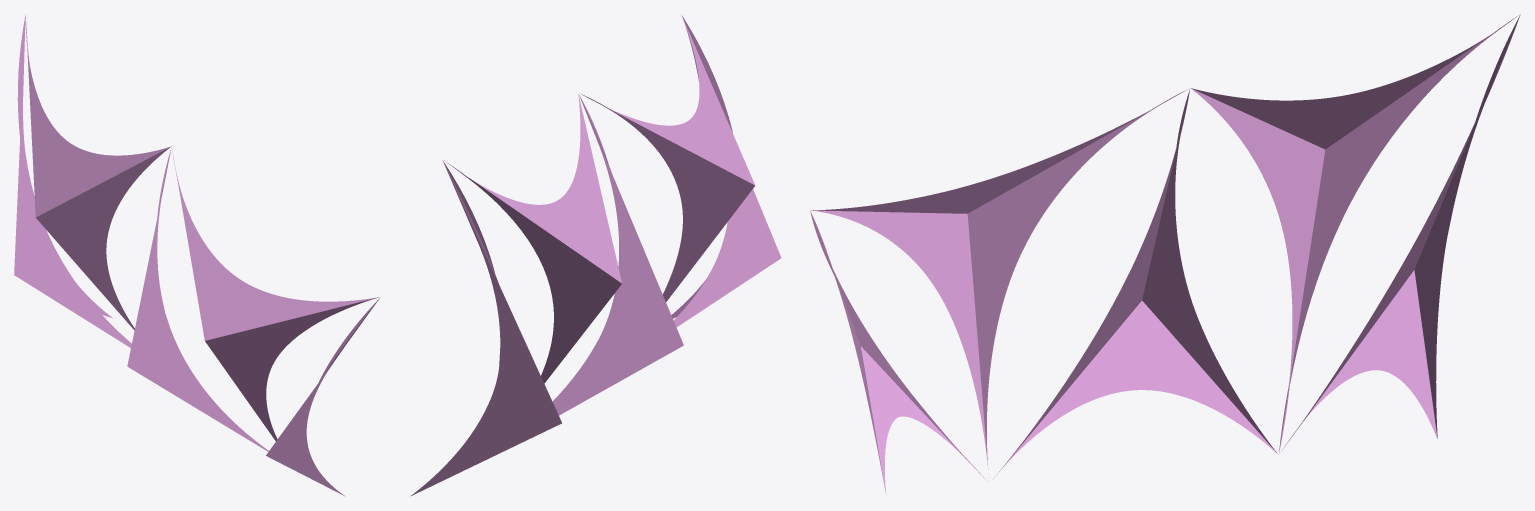
File: TYPE33-5.glb
3 views of the same model, side by side, from view 1: azimuth 30°, elevation 25°; view 2: azimuth 150°, elevation 25°; view 3: azimuth 270°, elevation 25° (orthographic). The views are drawn at different scales.
Visible parts, largest first — view 1: TYPE33-5 (×8); view 2: TYPE33-5 (×8); view 3: TYPE33-5 (×14).
Boxes of the visible parts, x1,y1,x2,y2 form: TYPE33-5 (×8): (14,15,379,496); TYPE33-5 (×8): (410,16,781,496); TYPE33-5 (×14): (810,15,1519,495).
Bounding box in the file's own units: 2.51 × 5.22 × 7.8.
